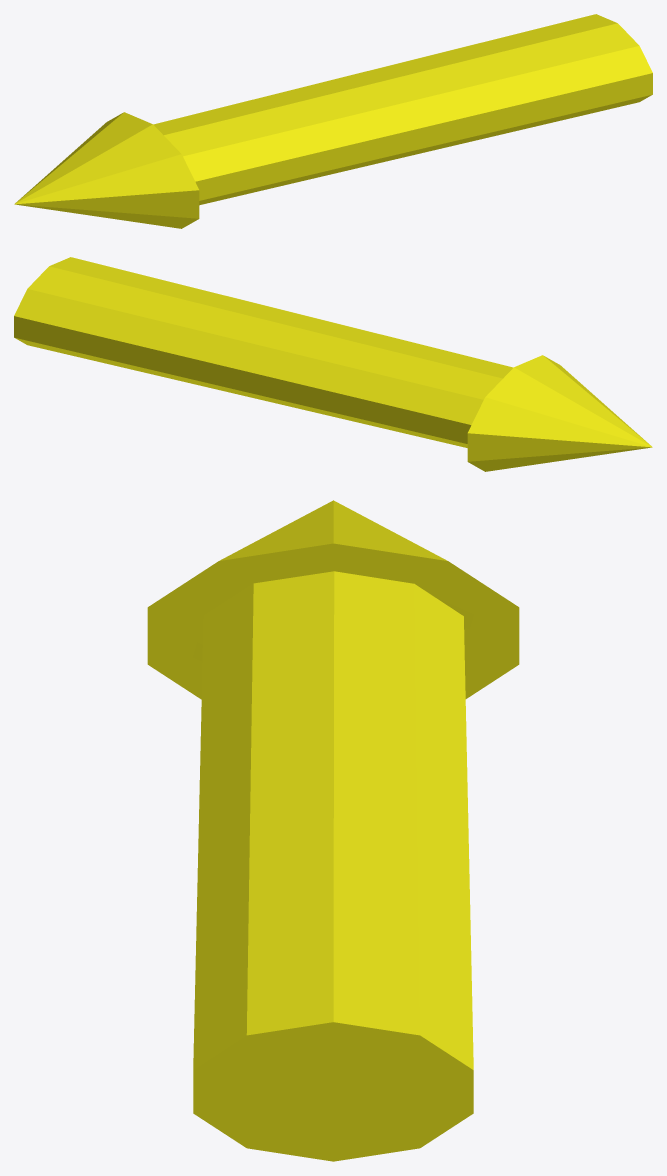
Rendered from arrow.obj.
The picture shows the model from 3 angles, top to bottom: view 1: azimuth 30°, elevation 25°; view 2: azimuth 150°, elevation 25°; view 3: azimuth 270°, elevation 25°; orthographic projection. The views are drawn at different scales.
Visible parts, largest first — view 1: pCylinder2; view 2: pCylinder2; view 3: pCylinder2.
Part boxes in pixels (left/top/right/bottom): pCylinder2: left=14, top=14, right=652, bottom=228; pCylinder2: left=14, top=257, right=652, bottom=471; pCylinder2: left=147, top=500, right=519, bottom=1161.
Size of the model in its own units: 9.46 by 1.38 by 2.52.
1 material, 1 textured.
